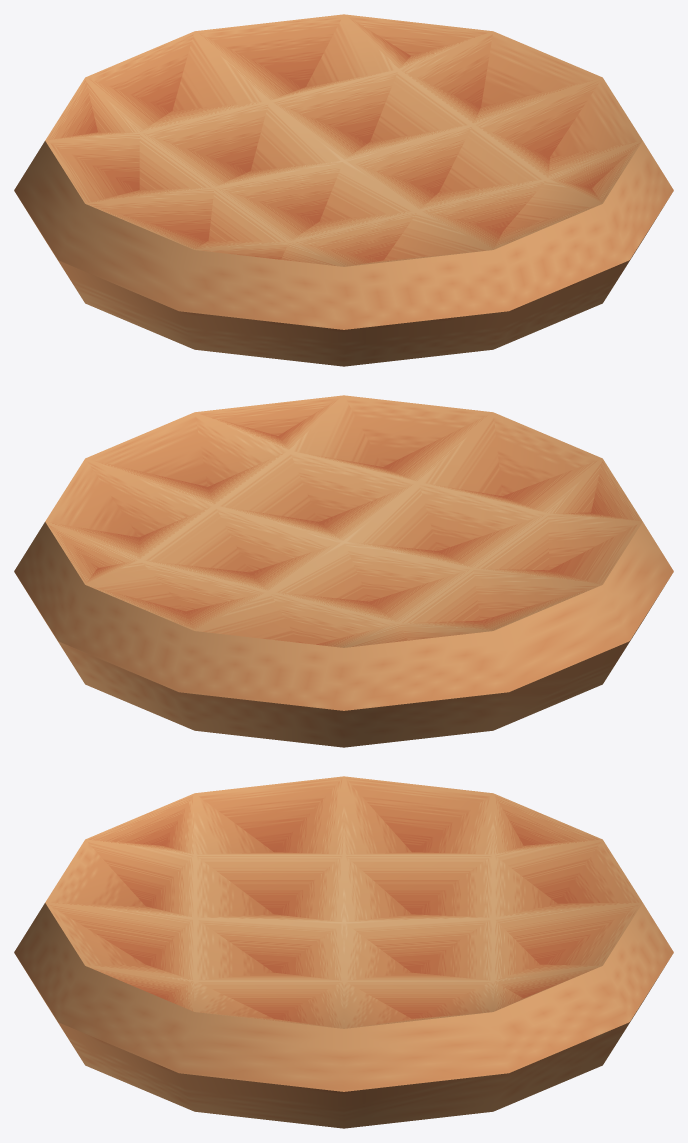
Rendered from icecream_waffle.gltf.
3 renders of one model, top to bottom at view 1: azimuth 30°, elevation 25°; view 2: azimuth 150°, elevation 25°; view 3: azimuth 270°, elevation 25°, orthographic.
Visible parts, largest first — view 1: icecream_waffle; view 2: icecream_waffle; view 3: icecream_waffle.
Part boxes in pixels (box(x1,y1,x2,y2)): icecream_waffle: box(14, 14, 673, 366); icecream_waffle: box(14, 395, 673, 747); icecream_waffle: box(14, 776, 673, 1128).
Bounding box in the file's own units: 0.6 × 0.1 × 0.6.
1 material, 1 textured.
